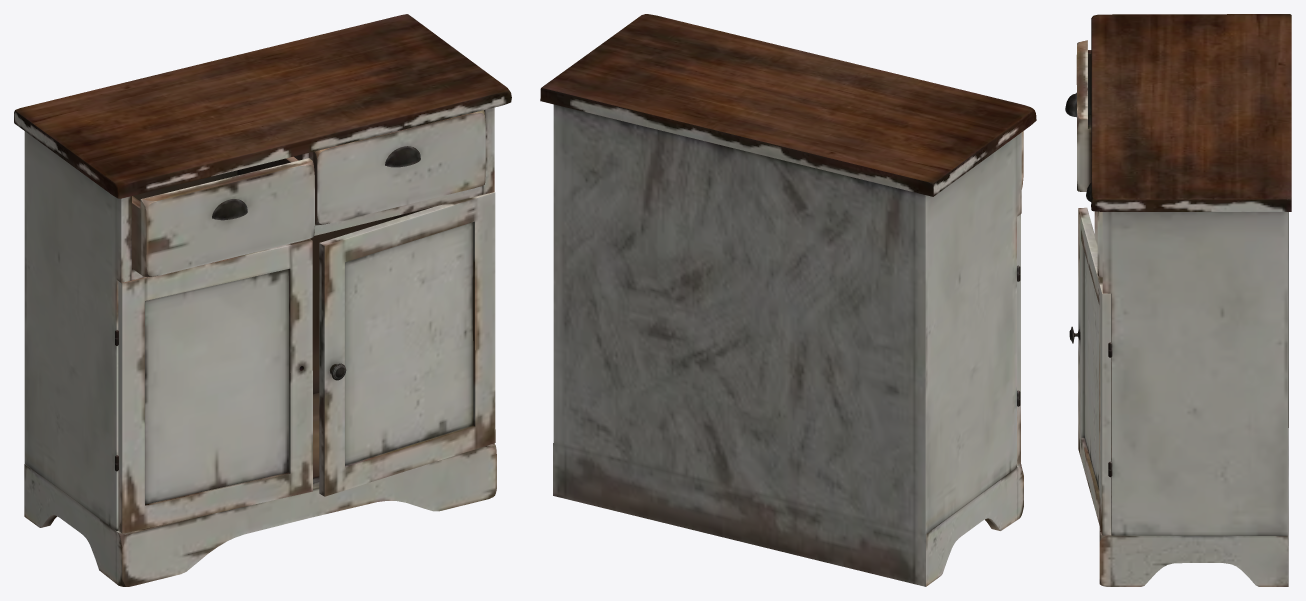
The model's file is ph-painted_wooden_cabinet.glb.
3 views of the same model, side by side, from view 1: azimuth 30°, elevation 25°; view 2: azimuth 150°, elevation 25°; view 3: azimuth 270°, elevation 25° (orthographic). The views are drawn at different scales.
Visible parts, largest first — view 1: painted_wooden_cabinet; view 2: painted_wooden_cabinet; view 3: painted_wooden_cabinet.
Part boxes in pixels (box(x1,y1,x2,y2)): painted_wooden_cabinet: box(14, 14, 511, 586); painted_wooden_cabinet: box(540, 14, 1036, 586); painted_wooden_cabinet: box(1065, 14, 1291, 586).
Size of the model in its own units: 1 by 0.9893 by 0.5162.
Materials: 1 (1 with a texture image).
